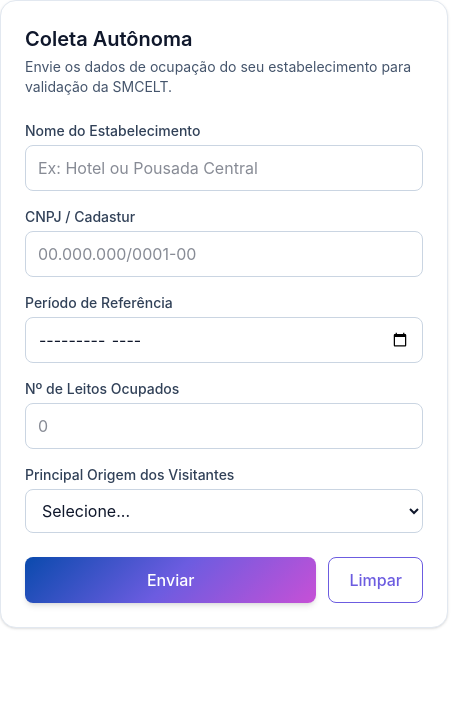
it: ColetaAutonomaForm › deve exibir mensagem de erro quando o envio falhar
The width and height of the screenshot is (465, 720).
Step 1. Type "Hotel Estrela" into the field labelled "Nome do Estabelecimento" → (224, 168), box [25,145,423,191]
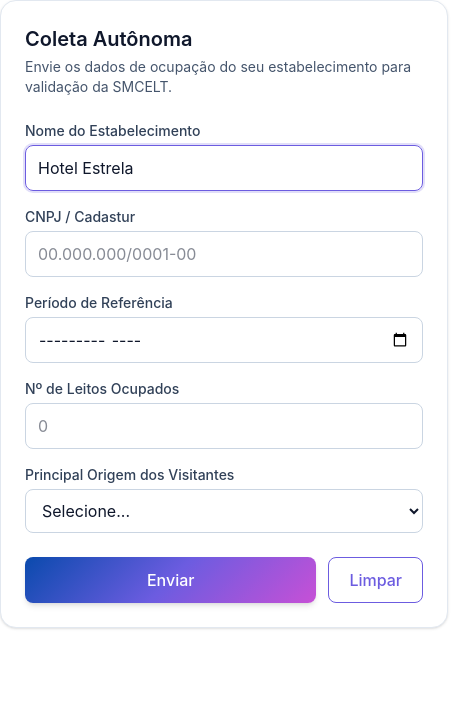
Step 2. Type "12345678000195" into the field labelled "CNPJ / Cadastur" → (224, 254), box [25,231,423,277]
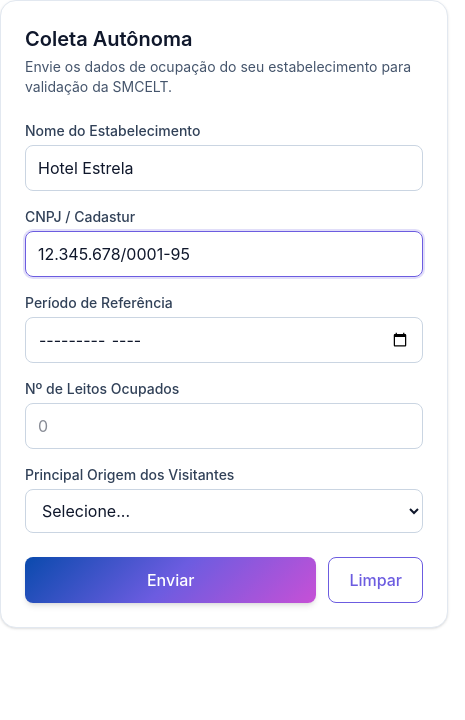
Step 3. Type "2026-10" into the field labelled "Período de Referência" → (224, 340), box [25,317,423,363]
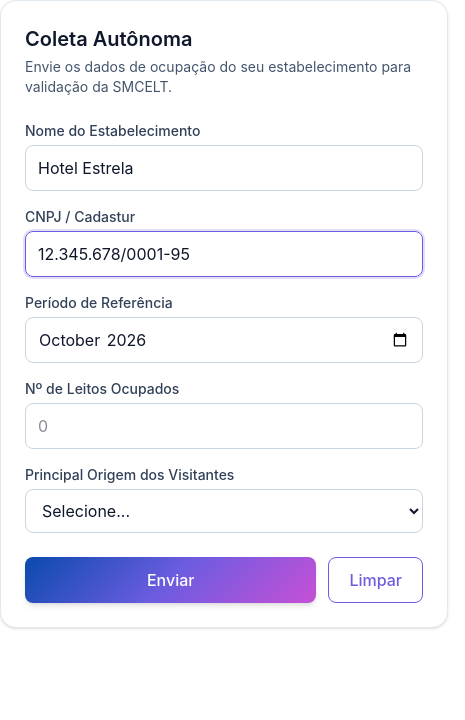
Step 4. Click the button "Enviar" → (171, 580), box [25,557,316,603]
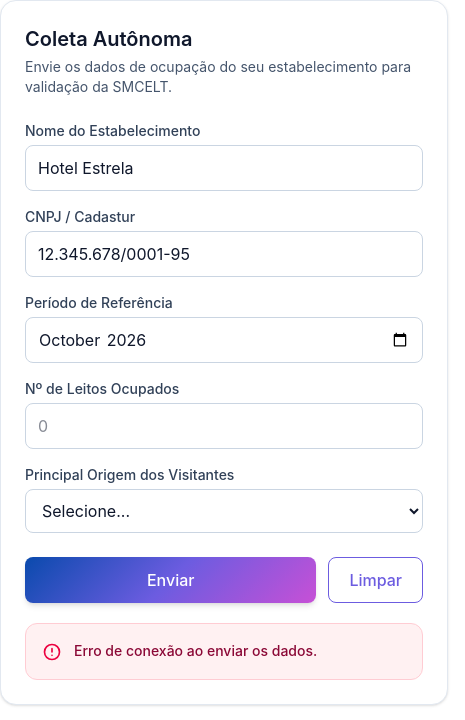
Check: the text "Erro de conexão ao enviar os dados." is shown, box [74,640,317,663]
